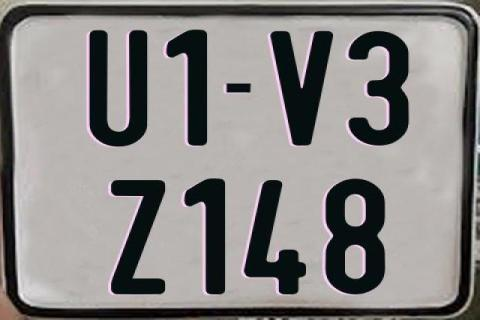0: (243, 179, 311, 295), (323, 176, 385, 296), (349, 31, 413, 147), (164, 30, 206, 146), (181, 176, 222, 294)
U: (86, 28, 146, 145)
V: (269, 29, 336, 147)
Z: (110, 180, 166, 296)
